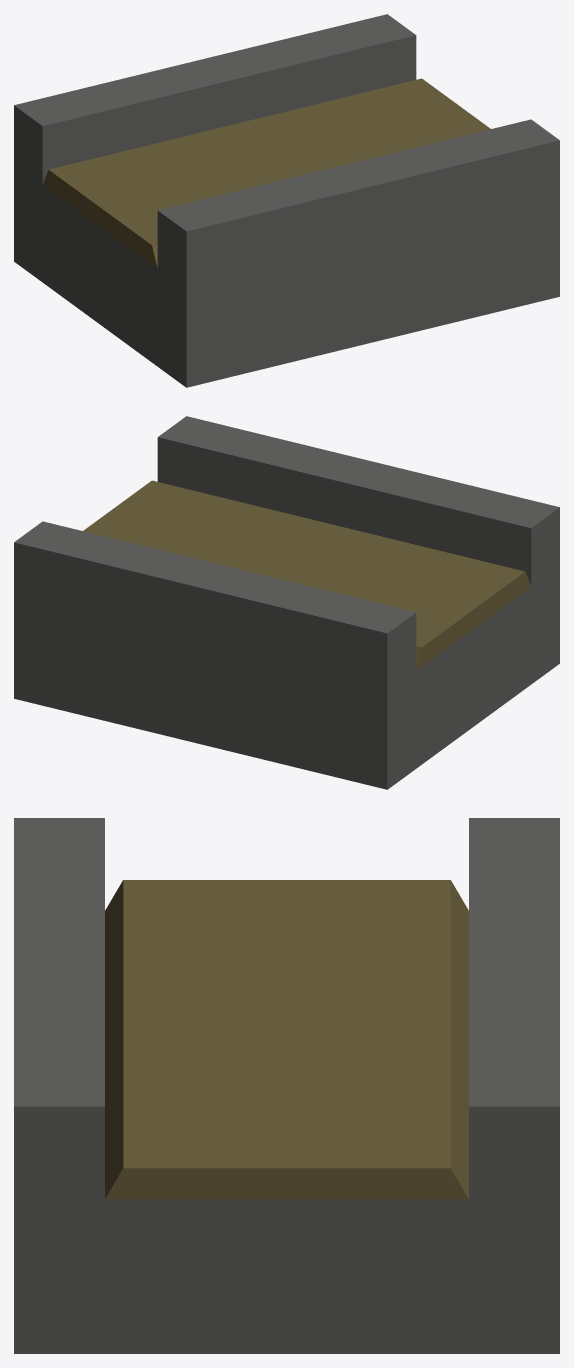
The model's file is Garden Bed Centre.fbx.
3 views of the same model, one above another, from view 1: azimuth 30°, elevation 25°; view 2: azimuth 150°, elevation 25°; view 3: azimuth 270°, elevation 25° (orthographic). The views are drawn at different scales.
Visible parts, largest first — view 1: Garden Bed Centre; view 2: Garden Bed Centre; view 3: Garden Bed Centre.
Part boxes in pixels (x1,y1,x2,y2): Garden Bed Centre: (14,14,559,387); Garden Bed Centre: (14,416,559,789); Garden Bed Centre: (14,818,559,1353).
Bounding box in the file's own units: 1000 × 400 × 800.
